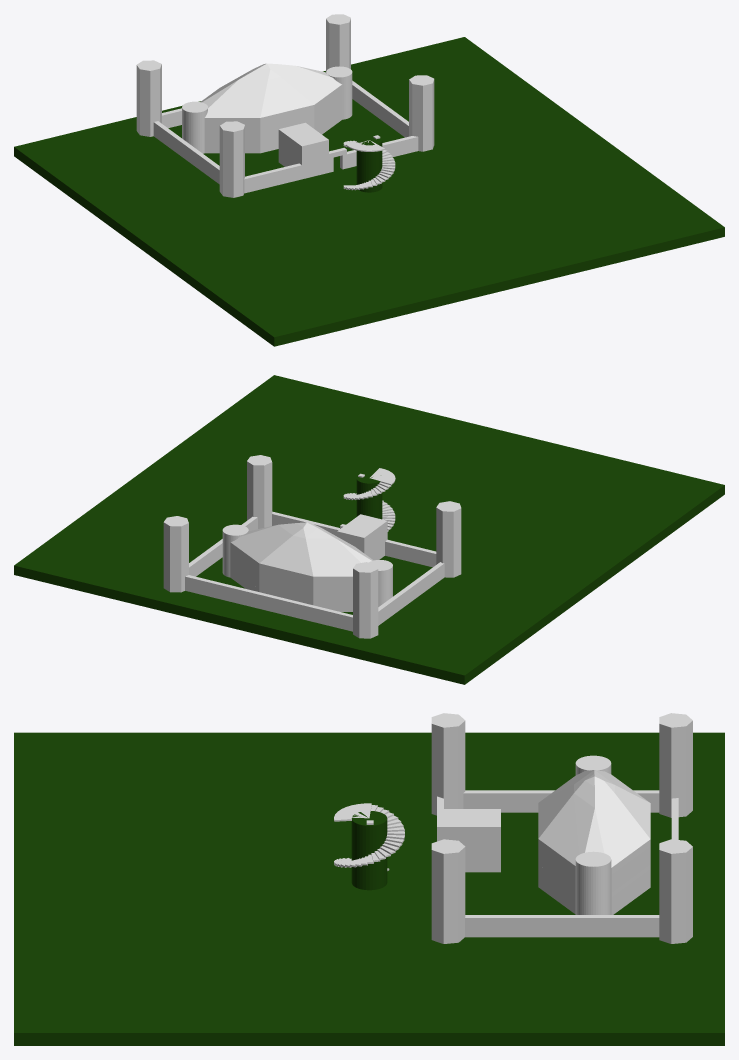
File: palace.dae
3 views of the same model, one above another, from view 1: azimuth 30°, elevation 25°; view 2: azimuth 150°, elevation 25°; view 3: azimuth 270°, elevation 25° (orthographic). The views are drawn at different scales.
Parts seen in each view (by area): view 1: ground-col, roof-col, Cylinder.005-col, Cylinder.002-col, Cylinder-col, Cylinder.001-col, platform-col, tower_l-col, cube.008-col, tower_r-col, cube.051-col, cube.020-col (+5 smaller); view 2: ground-col, roof-col, Cylinder.002-col, Cylinder.001-col, Cylinder.005-col, Cylinder-col, cube.259-col, cube.209-col, platform-col, cube.008-col, cube.007-col, cube.024-col (+7 smaller); view 3: ground-col, roof-col, Cylinder-col, Cylinder.001-col, Cylinder.002-col, Cylinder.005-col, cube.137-col, platform-col, tower_r-col, cube.188-col, cube.004-col, stairs-col (+7 smaller).
Boxes of the visible parts, left/top/right/bottom form: ground-col: left=14, top=37, right=724, bottom=346; roof-col: left=200, top=63, right=342, bottom=120; Cylinder.005-col: left=219, top=121, right=244, bottom=197; Cylinder.002-col: left=136, top=60, right=161, bottom=136; Cylinder-col: left=409, top=75, right=434, bottom=151; Cylinder.001-col: left=326, top=14, right=350, bottom=71; platform-col: left=356, top=134, right=382, bottom=192; tower_l-col: left=182, top=101, right=207, bottom=153; cube.008-col: left=244, top=163, right=301, bottom=193; tower_r-col: left=326, top=66, right=352, bottom=119; cube.051-col: left=347, top=136, right=418, bottom=168; cube.020-col: left=260, top=109, right=314, bottom=136; ground-col: left=14, top=375, right=724, bottom=684; roof-col: left=230, top=522, right=373, bottom=578; Cylinder.002-col: left=353, top=562, right=378, bottom=638; Cylinder.001-col: left=163, top=516, right=188, bottom=592; Cylinder.005-col: left=436, top=501, right=461, bottom=577; Cylinder-col: left=247, top=455, right=272, bottom=528; cube.259-col: left=185, top=575, right=253, bottom=606; cube.209-col: left=251, top=591, right=306, bottom=619; platform-col: left=356, top=472, right=382, bottom=519; cube.008-col: left=385, top=539, right=436, bottom=567; cube.007-col: left=305, top=604, right=352, bottom=631; cube.024-col: left=259, top=568, right=313, bottom=595; ground-col: left=14, top=732, right=724, bottom=1045; roof-col: left=538, top=770, right=650, bottom=870; Cylinder-col: left=431, top=839, right=465, bottom=943; Cylinder.001-col: left=659, top=839, right=692, bottom=943; Cylinder.002-col: left=659, top=713, right=692, bottom=817; Cylinder.005-col: left=431, top=713, right=465, bottom=815; cube.137-col: left=465, top=915, right=568, bottom=937; platform-col: left=351, top=811, right=387, bottom=890; tower_r-col: left=575, top=851, right=611, bottom=914; cube.188-col: left=568, top=915, right=659, bottom=937; cube.004-col: left=463, top=790, right=554, bottom=812; stairs-col: left=334, top=803, right=404, bottom=870.
Size of the model in its own units: 100 by 100 by 16.44.
